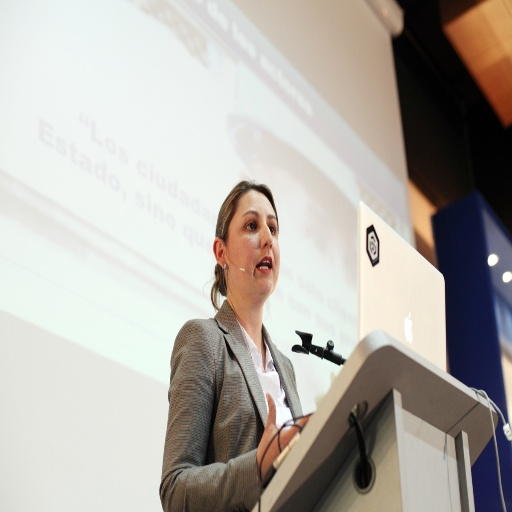hand: (256, 391, 313, 482)
